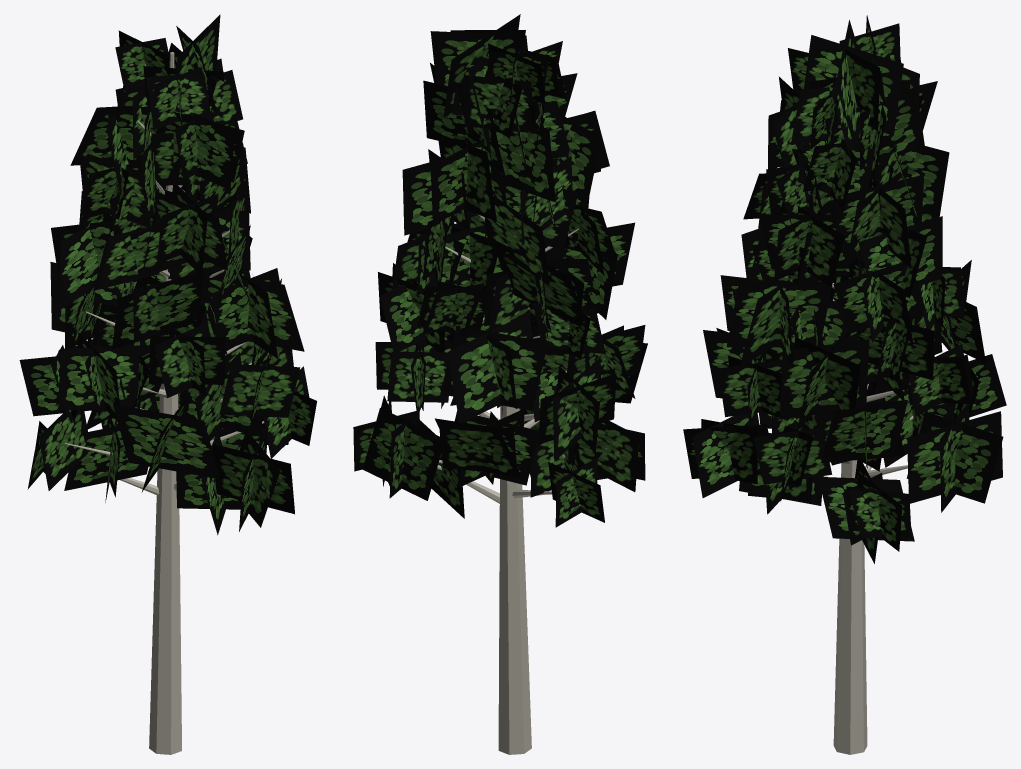
File: tree_1.glb
3 views of the same model, side by side, from view 1: azimuth 30°, elevation 25°; view 2: azimuth 150°, elevation 25°; view 3: azimuth 270°, elevation 25° (orthographic).
Visible parts, largest first — view 1: Aspen; view 2: Aspen; view 3: Aspen.
Boxes of the visible parts, bbox=[...] form: Aspen: bbox=[19, 14, 316, 754]; Aspen: bbox=[353, 14, 647, 754]; Aspen: bbox=[683, 15, 1006, 754].
Size of the model in its own units: 4.83 by 12.43 by 5.04.
Materials: 2 (1 with a texture image).
